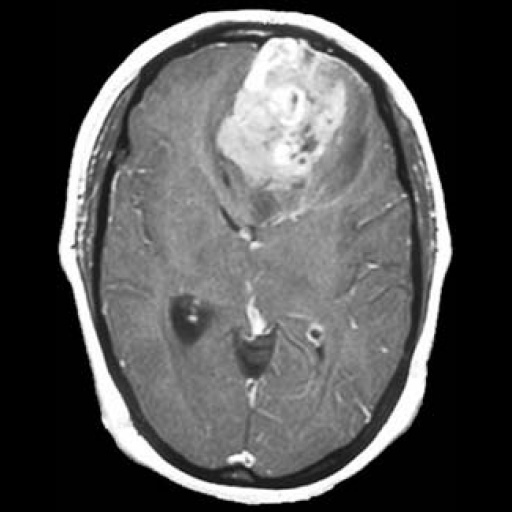tumor: (215, 31, 353, 194)
